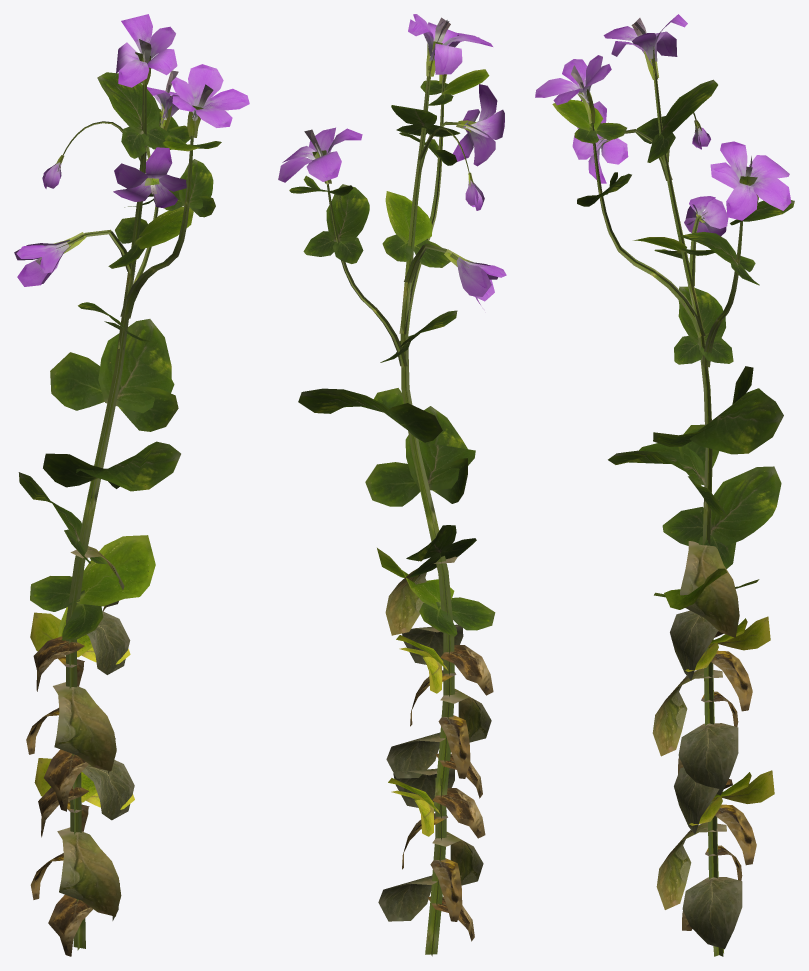
File: Periwinkle_bush_short_magenta.glb
3 renders of one model, left to right at view 1: azimuth 30°, elevation 25°; view 2: azimuth 150°, elevation 25°; view 3: azimuth 270°, elevation 25°, orthographic. The views are drawn at different scales.
Visible parts, largest first — view 1: _419c_Var3_LOD1.2; view 2: _419c_Var3_LOD1.2; view 3: _419c_Var3_LOD1.2.
Part boxes in pixels (x1,y1,x2,y2): _419c_Var3_LOD1.2: (14,14,249,956); _419c_Var3_LOD1.2: (278,14,506,956); _419c_Var3_LOD1.2: (535,14,794,956).
Bounding box in the file's own units: 0.6129 × 2.59 × 0.6394.
1 material, 1 textured.
